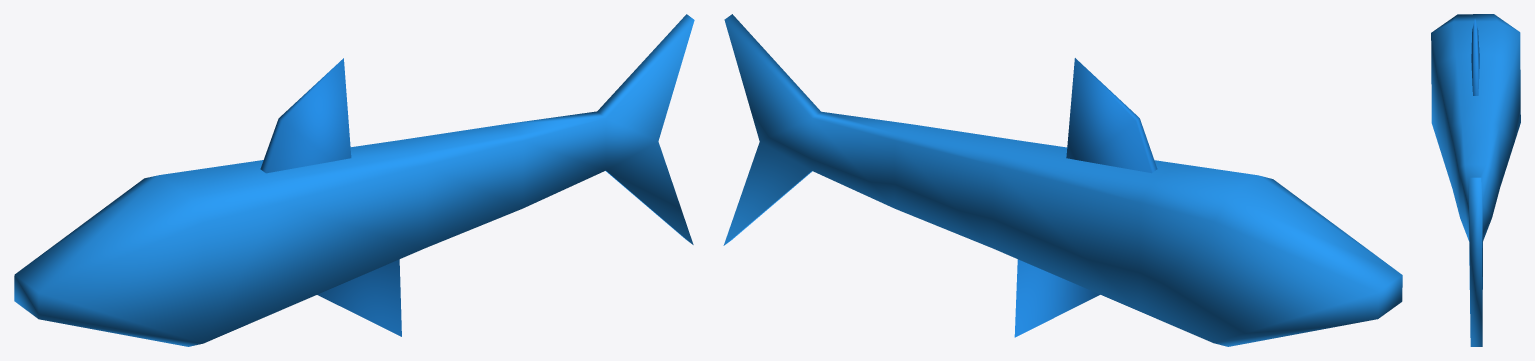
The model's file is Fish_038.glb.
The picture shows the model from 3 angles, left to right: view 1: azimuth 30°, elevation 25°; view 2: azimuth 150°, elevation 25°; view 3: azimuth 270°, elevation 25°; orthographic projection. The views are drawn at different scales.
Parts seen in each view (by area): view 1: Fish_038; view 2: Fish_038; view 3: Fish_038.
Part boxes in pixels (bbox=[...]): Fish_038: bbox=[14, 14, 694, 346]; Fish_038: bbox=[723, 14, 1402, 346]; Fish_038: bbox=[1431, 14, 1520, 346].
Bounding box in the file's own units: 0.2978 × 0.1263 × 0.0466.
1 material, 1 textured.
